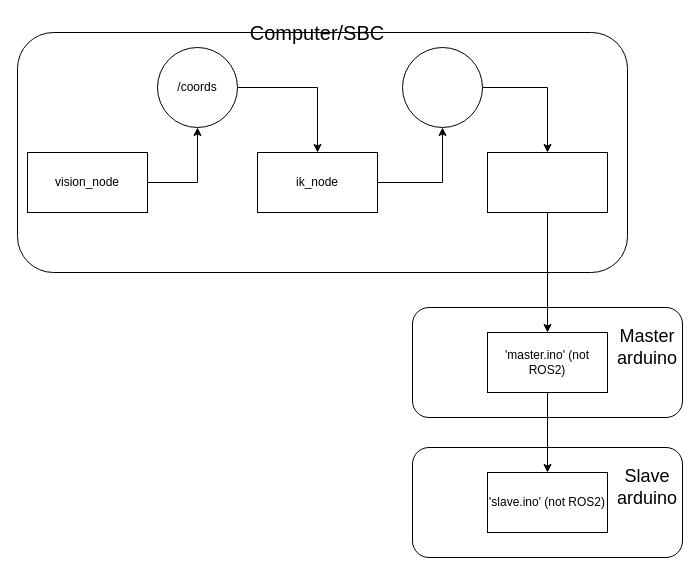
The diagram is 700 pixels wide and 575 high, and some of its shapes have lost their labels. Here are the shapes that lost their labels. From the top down, the centre of each, then its label:
At [442,87]: "/angles".
At [547,182]: "comms_node".
